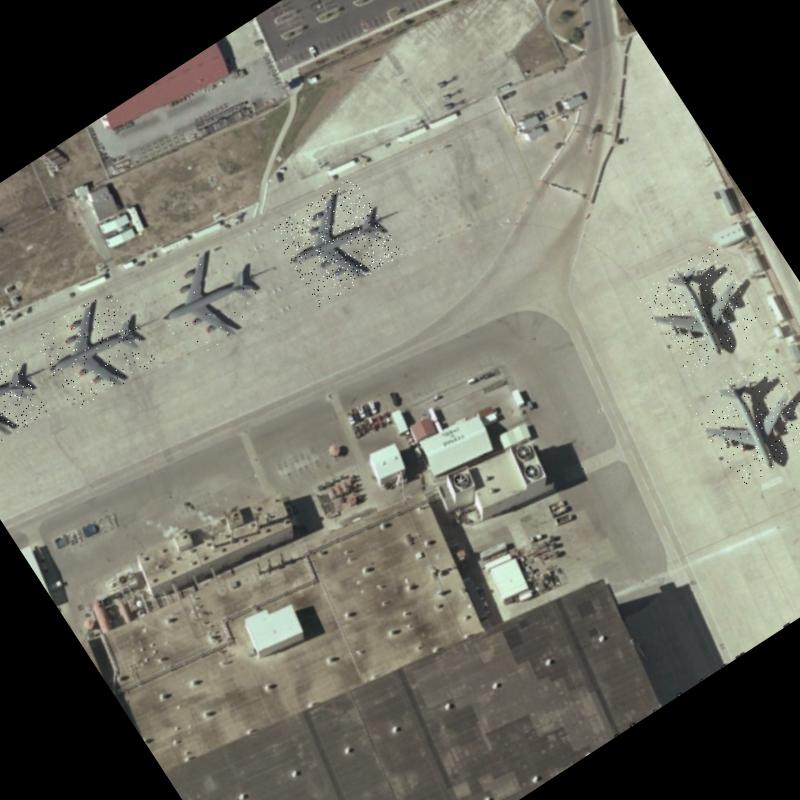A14: (636, 242, 769, 376), (269, 176, 403, 308), (140, 234, 274, 366), (28, 286, 159, 414), (688, 352, 800, 489), (0, 334, 49, 465)
